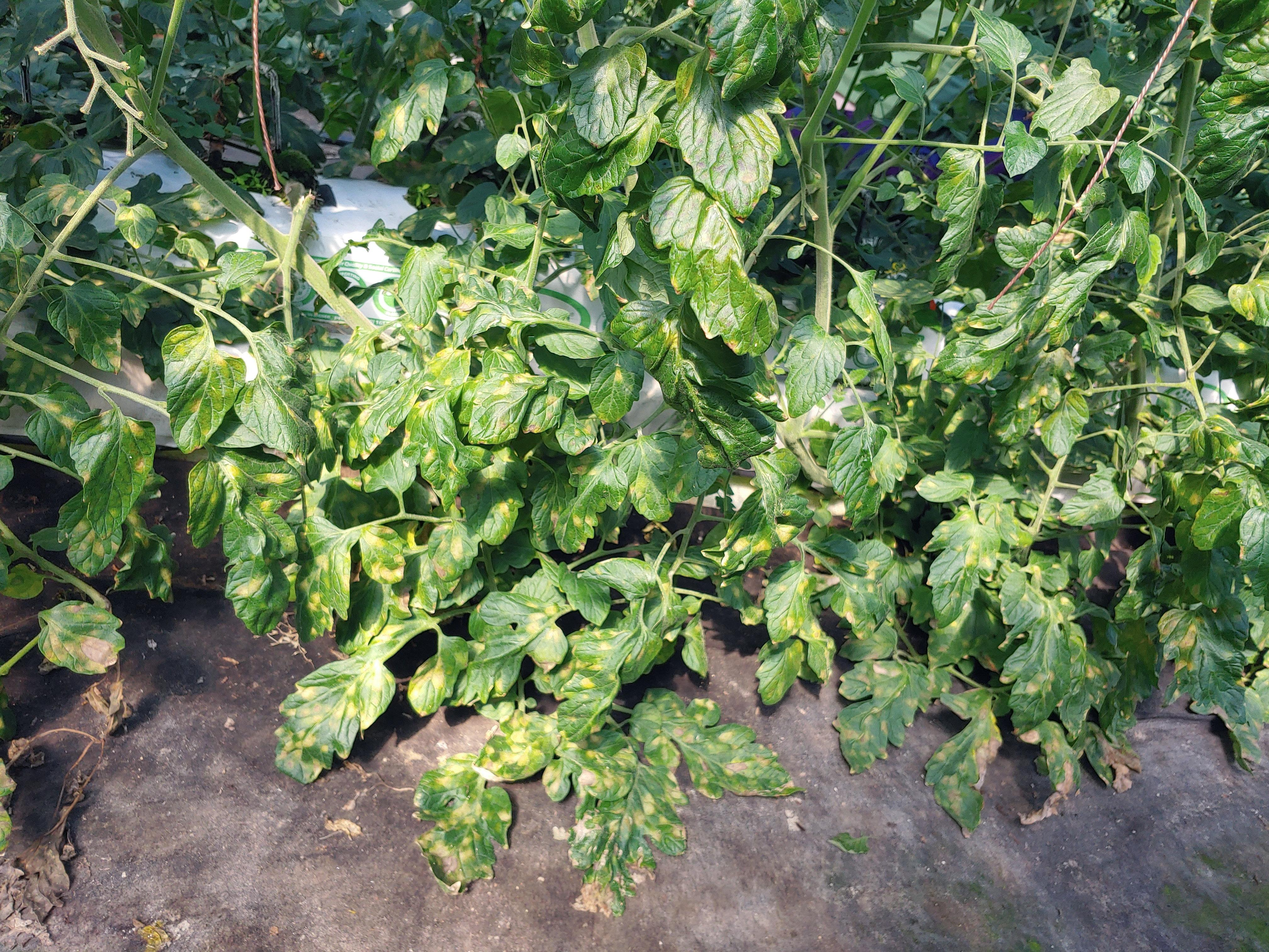Healthy: (1001, 119, 1051, 180), (1117, 140, 1156, 196)
Leaf Mold: (610, 298, 789, 471), (648, 172, 779, 360), (184, 451, 305, 637), (670, 45, 787, 228), (929, 224, 1055, 387), (635, 684, 807, 803), (570, 757, 691, 914), (1182, 0, 1269, 199), (273, 654, 398, 786), (545, 64, 663, 200), (1039, 209, 1150, 353), (452, 589, 569, 710), (685, 0, 821, 104), (411, 764, 513, 900), (718, 444, 818, 577), (556, 619, 663, 743), (920, 686, 1006, 838), (830, 657, 936, 776), (1000, 572, 1073, 740), (1158, 596, 1251, 727), (235, 317, 315, 468), (401, 392, 497, 514), (69, 410, 158, 541), (160, 322, 247, 453), (983, 324, 1076, 445), (922, 504, 1003, 633), (826, 420, 909, 533), (371, 57, 451, 171), (826, 540, 916, 641), (551, 445, 628, 557), (570, 42, 648, 150), (292, 516, 352, 645), (36, 598, 130, 679), (47, 278, 124, 375), (104, 507, 179, 605), (460, 445, 531, 548), (783, 312, 846, 418), (473, 710, 561, 785), (55, 487, 125, 581), (848, 266, 895, 406), (465, 366, 548, 445), (27, 376, 94, 473), (452, 269, 546, 327), (619, 433, 677, 525), (407, 635, 469, 717), (395, 241, 452, 327), (763, 558, 818, 645), (587, 348, 645, 426), (1188, 415, 1269, 470), (1188, 483, 1249, 554), (14, 172, 87, 226), (1056, 475, 1127, 528), (575, 555, 655, 602), (1039, 387, 1090, 458), (753, 637, 803, 706), (426, 522, 480, 582), (359, 524, 408, 588), (933, 149, 979, 211), (1227, 270, 1269, 329), (913, 465, 976, 503), (113, 203, 159, 251), (479, 218, 539, 251)
